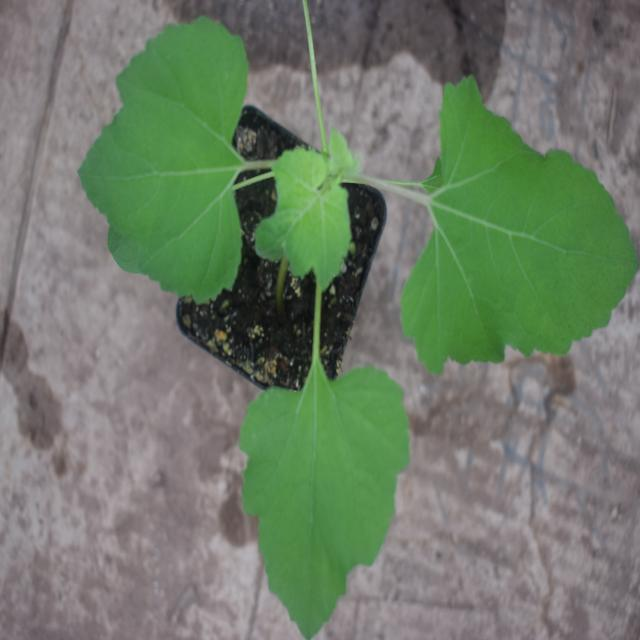cocklebur: (83, 36, 596, 584)
